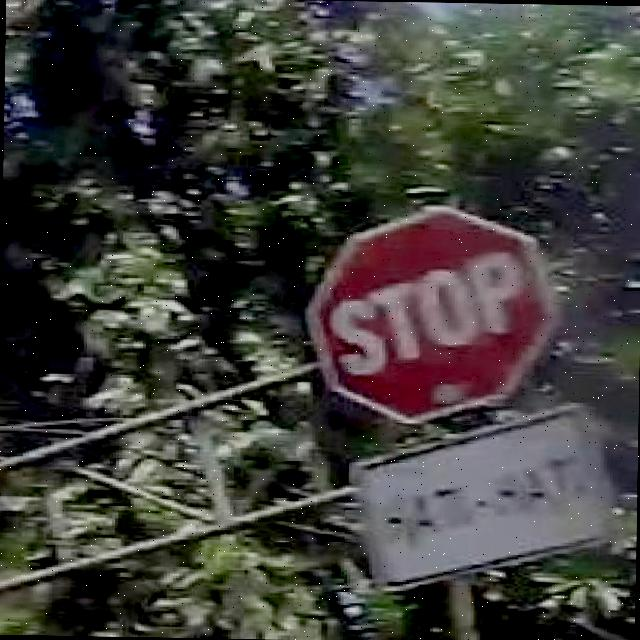Stop: (312, 213, 542, 413)
